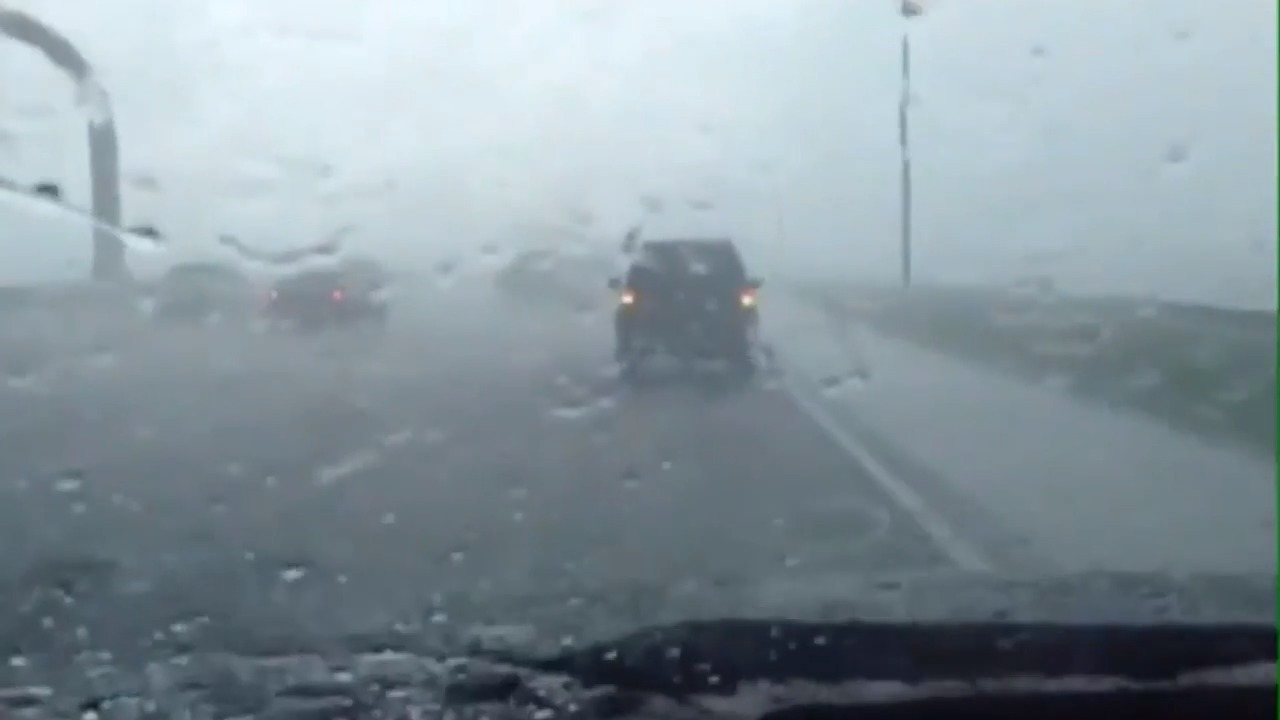car: (601, 216, 764, 389), (271, 262, 387, 327), (155, 262, 261, 330)
